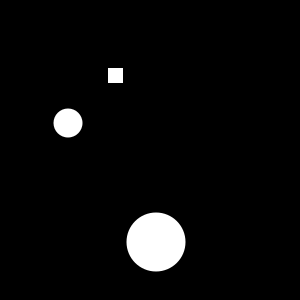circle: (108, 68, 123, 83)
rectangle: (126, 212, 186, 272), (53, 108, 82, 138)
